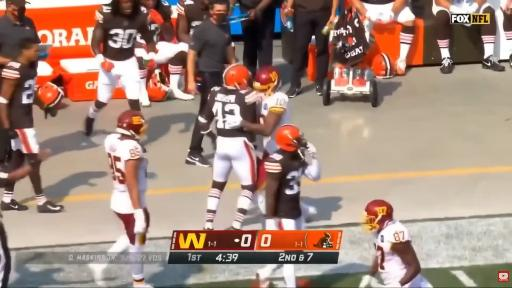Helmet: (363, 200, 393, 231), (116, 110, 147, 139), (253, 66, 281, 94), (275, 124, 304, 151), (223, 64, 251, 89), (147, 70, 169, 101), (36, 82, 63, 107), (372, 53, 395, 78)
Jersey: (105, 134, 147, 213), (264, 150, 307, 219), (97, 4, 149, 61), (204, 87, 257, 142), (2, 62, 37, 129), (375, 220, 411, 284), (177, 0, 209, 36), (260, 92, 290, 127), (148, 17, 160, 42)
Player: (0, 39, 63, 213), (198, 64, 258, 229), (85, 0, 155, 135), (105, 111, 150, 287), (264, 124, 320, 230), (364, 200, 431, 287), (432, 0, 505, 74), (351, 0, 415, 75), (242, 67, 290, 160), (142, 0, 187, 63), (177, 0, 209, 45), (501, 0, 511, 67), (169, 53, 187, 87)
